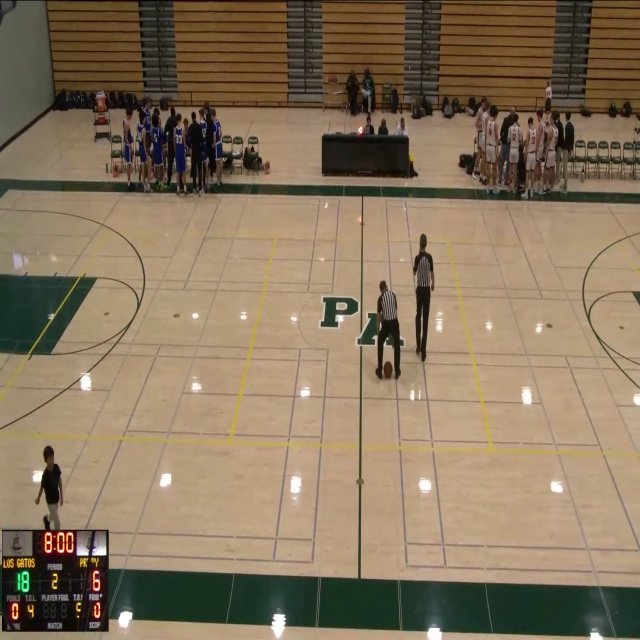Basketball: (383, 361, 392, 379)
